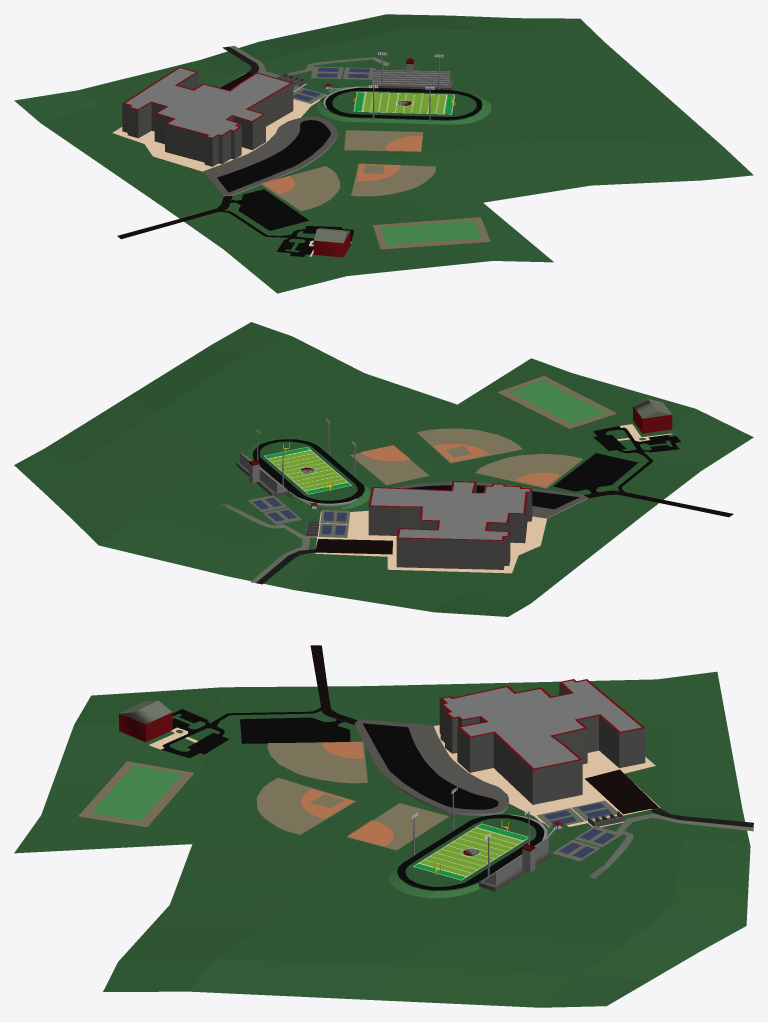
The model's file is broadneck.glb.
The picture shows the model from 3 angles, top to bottom: view 1: azimuth 30°, elevation 25°; view 2: azimuth 150°, elevation 25°; view 3: azimuth 270°, elevation 25°; orthographic projection. The views are drawn at different scales.
Visible parts, largest first — view 1: Plane.021, Cylinder.087, Cylinder.099, Cylinder.085; view 2: Plane.021, Cylinder.087, Cylinder.099, Cylinder.085; view 3: Plane.021, Cylinder.087, Cylinder.099, Cylinder.085.
Boxes of the visible parts, bbox=[...] form: Plane.021: bbox=[14, 14, 753, 293]; Cylinder.087: bbox=[112, 45, 490, 257]; Cylinder.099: bbox=[122, 66, 293, 166]; Cylinder.085: bbox=[317, 52, 491, 124]; Plane.021: bbox=[14, 322, 753, 616]; Cylinder.087: bbox=[221, 376, 733, 584]; Cylinder.099: bbox=[368, 481, 532, 569]; Cylinder.085: bbox=[236, 418, 370, 512]; Plane.021: bbox=[14, 671, 750, 1007]; Cylinder.087: bbox=[78, 645, 753, 878]; Cylinder.099: bbox=[439, 679, 645, 804]; Cylinder.085: bbox=[388, 787, 569, 898].
Bounding box in the file's own units: 1.13 × 0.0966 × 1.
25 materials, 2 textured.
